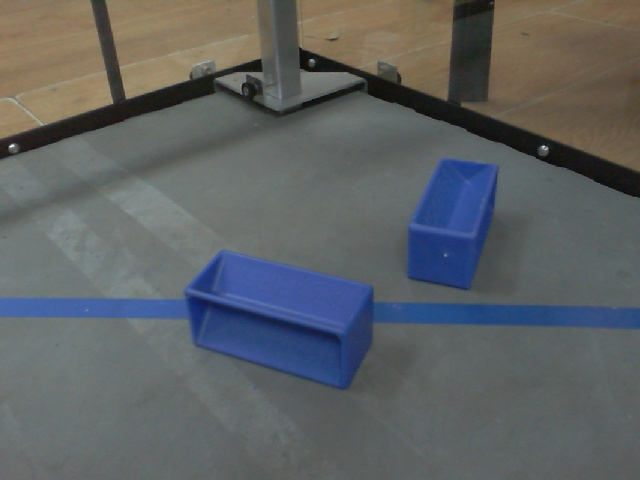BlueSample: (182, 245, 382, 396), (401, 153, 500, 293)
